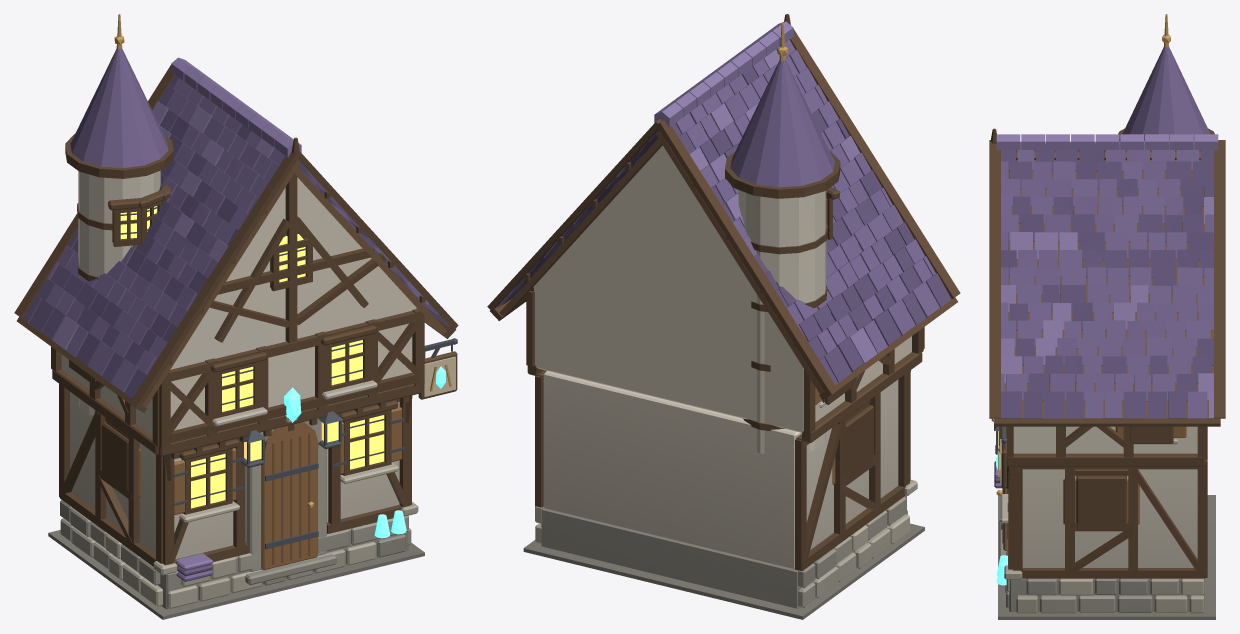
Rendered from identification.glb.
3 renders of one model, left to right at view 1: azimuth 30°, elevation 25°; view 2: azimuth 150°, elevation 25°; view 3: azimuth 270°, elevation 25°, orthographic. The views are drawn at different scales.
Parts seen in each view (by area): view 1: Structure_HV_timber, Roof_HV_identification_slate, Structure_HV_identification_plaster, Roof_HV_timber, Roof_HV_identification_slate_dark, Facade_HV_timber, Facade_HV_door, Facade_HV_amber_glass, Roof_HV_identification_slate_light, Roof_HV_identification_plaster, Structure_HV_stone2, Structure_HV_stone0 (+10 smaller); view 2: Structure_HV_identification_plaster, Roof_HV_identification_slate, Roof_HV_timber, Structure_HV_timber, Structure_HV_stone0, Roof_HV_identification_slate_dark, Roof_HV_identification_plaster, Roof_HV_identification_slate_light, Structure_HV_stone_dark, Roof_HV_oak, Facade_HV_timber, Structure_HV_stone2 (+1 smaller); view 3: Roof_HV_identification_slate, Roof_HV_identification_slate_dark, Structure_HV_identification_plaster, Structure_HV_timber, Roof_HV_timber, Roof_HV_identification_slate_light, Facade_HV_timber, Structure_HV_stone0, Structure_HV_stone_dark, Roof_HV_oak, Structure_HV_stone2, Structure_HV_stone1 (+2 smaller).
Part boxes in pixels (bbox=[...]): Structure_HV_timber: bbox=[51, 173, 424, 570]; Roof_HV_identification_slate: bbox=[46, 48, 439, 392]; Structure_HV_identification_plaster: bbox=[61, 177, 416, 559]; Roof_HV_timber: bbox=[14, 64, 458, 412]; Roof_HV_identification_slate_dark: bbox=[22, 75, 449, 398]; Facade_HV_timber: bbox=[69, 227, 457, 514]; Facade_HV_door: bbox=[138, 407, 402, 570]; Facade_HV_amber_glass: bbox=[191, 234, 384, 508]; Roof_HV_identification_slate_light: bbox=[52, 57, 429, 349]; Roof_HV_identification_plaster: bbox=[78, 170, 160, 415]; Structure_HV_stone2: bbox=[106, 502, 418, 608]; Structure_HV_stone0: bbox=[60, 500, 408, 609]; Structure_HV_identification_plaster: bbox=[534, 145, 911, 569]; Roof_HV_identification_slate: bbox=[502, 39, 939, 353]; Roof_HV_timber: bbox=[487, 14, 960, 431]; Structure_HV_timber: bbox=[526, 287, 924, 570]; Structure_HV_stone0: bbox=[541, 495, 906, 608]; Roof_HV_identification_slate_dark: bbox=[517, 66, 951, 384]; Roof_HV_identification_plaster: bbox=[738, 190, 826, 453]; Roof_HV_identification_slate_light: bbox=[497, 21, 877, 363]; Structure_HV_stone_dark: bbox=[523, 523, 924, 619]; Roof_HV_oak: bbox=[499, 131, 823, 393]; Facade_HV_timber: bbox=[822, 379, 873, 483]; Structure_HV_stone2: bbox=[535, 480, 917, 568]; Roof_HV_identification_slate: bbox=[1001, 46, 1213, 418]; Roof_HV_identification_slate_dark: bbox=[1001, 141, 1213, 418]; Structure_HV_identification_plaster: bbox=[1013, 426, 1197, 567]; Structure_HV_timber: bbox=[999, 426, 1207, 578]; Roof_HV_timber: bbox=[989, 128, 1225, 426]; Roof_HV_identification_slate_light: bbox=[996, 134, 1218, 418]; Facade_HV_timber: bbox=[1001, 426, 1173, 530]; Structure_HV_stone0: bbox=[1006, 539, 1204, 612]; Structure_HV_stone_dark: bbox=[998, 495, 1215, 619]; Roof_HV_oak: bbox=[1004, 151, 1213, 418]; Structure_HV_stone2: bbox=[1004, 565, 1203, 613]; Structure_HV_stone1: bbox=[1006, 551, 1178, 613].
Bounding box in the file's own units: 4 × 6.18 × 2.62.
